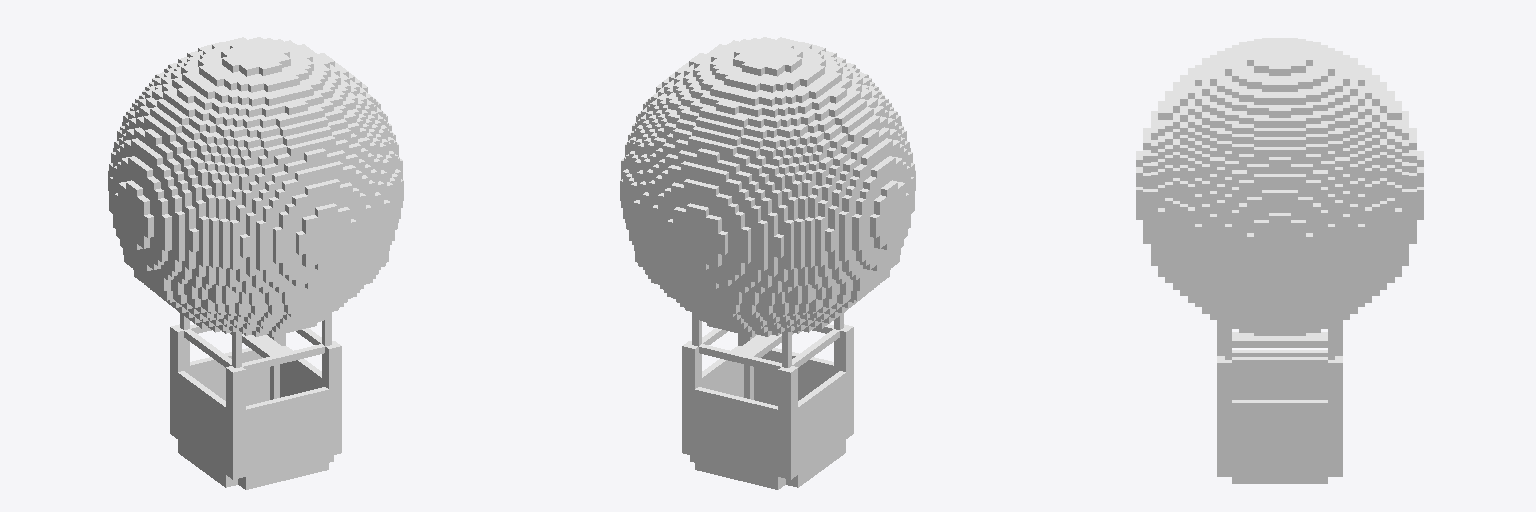
Rendered from Globo.obj.
The picture shows the model from 3 angles: view 1: azimuth 30°, elevation 25°; view 2: azimuth 150°, elevation 25°; view 3: azimuth 270°, elevation 25°; orthographic projection.
Parts seen in each view (by area): view 1: object 1; view 2: object 1; view 3: object 1.
Part boxes in pixels (left/top/right/bottom): object 1: left=108, top=37, right=403, bottom=489; object 1: left=620, top=37, right=915, bottom=489; object 1: left=1136, top=38, right=1423, bottom=483.
Size of the model in its own units: 3.9 by 6 by 3.9.